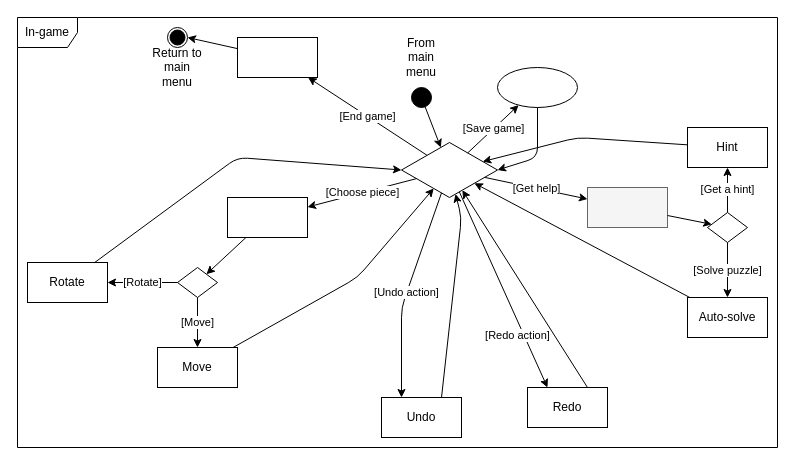
Image size: 795x465. Some labels were removed from this diagram. The centre of each missing label's shape, as x and y in pixels:
Exit: [277,57]
Help (drop-down): [627,207]
Save: [537,87]
Select: [267,217]
